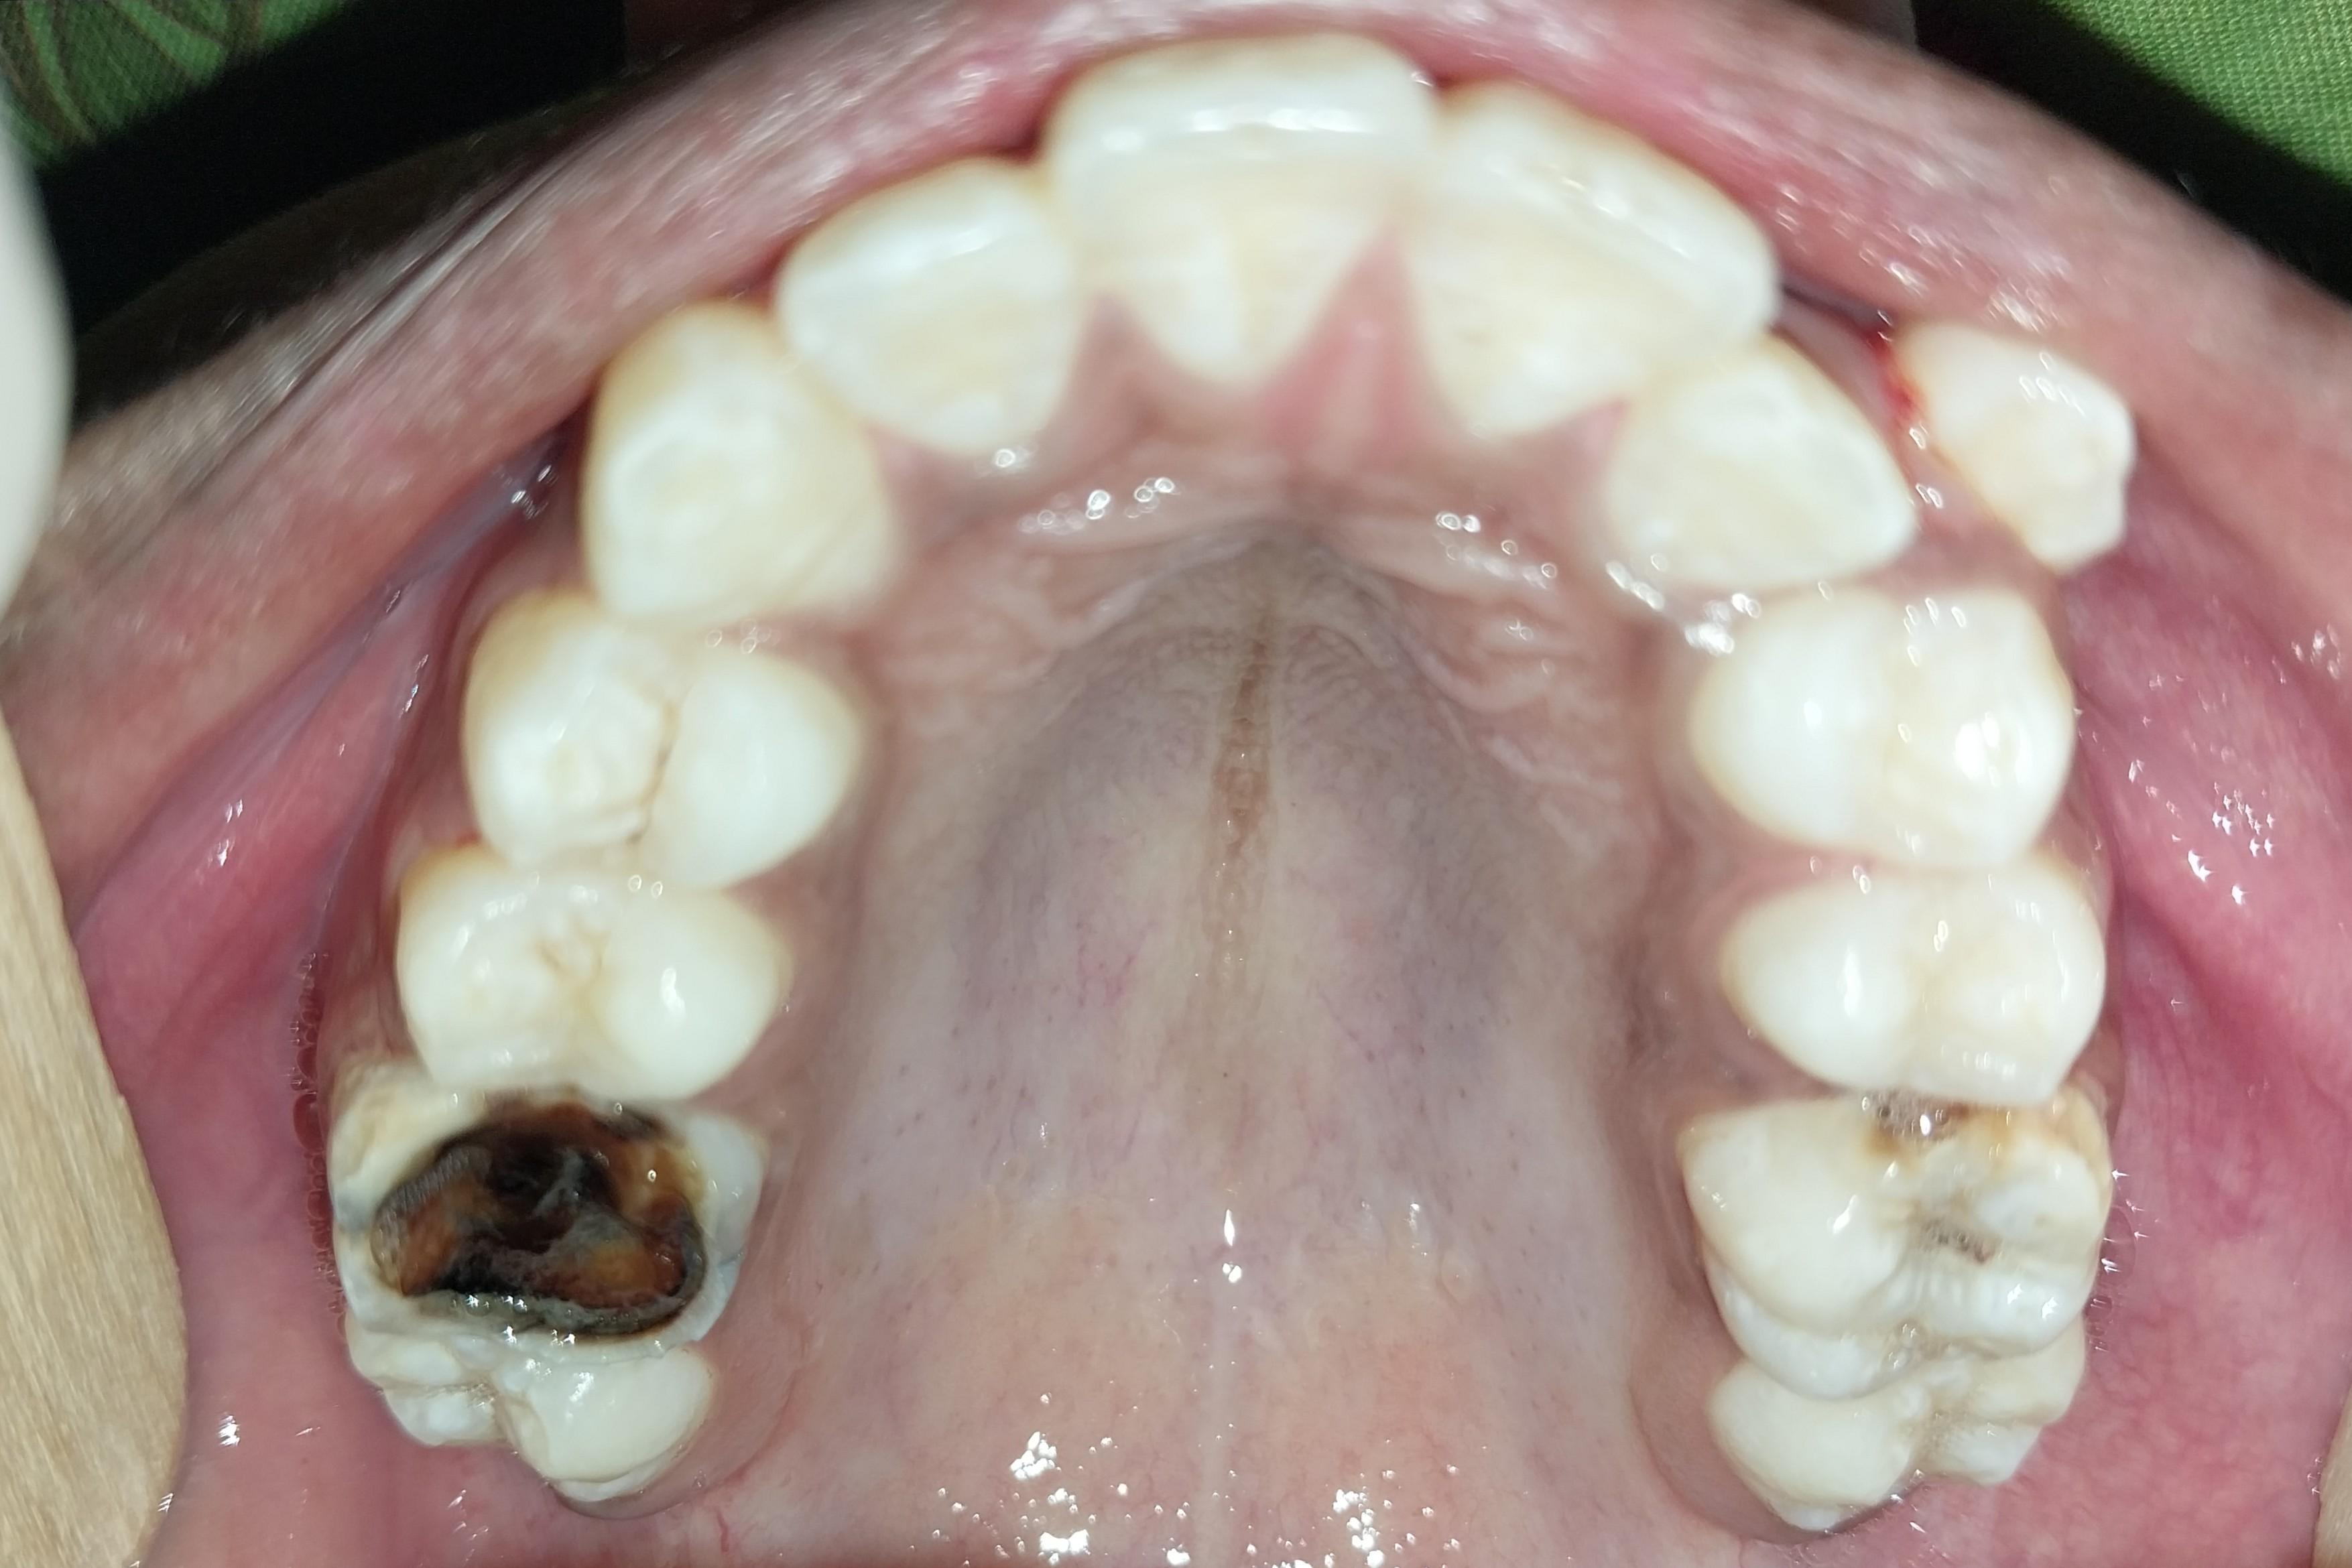D: (318, 1071, 771, 1363), (1672, 1095, 2109, 1374)
